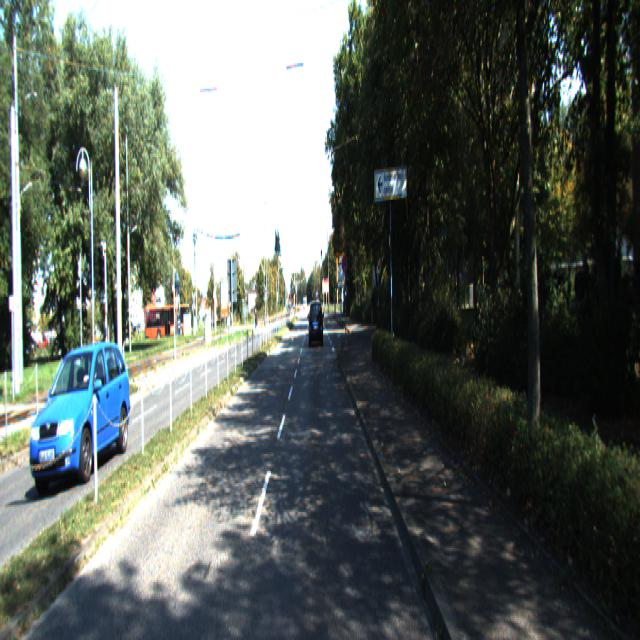Car: (31, 334, 132, 487), (309, 301, 324, 349)
